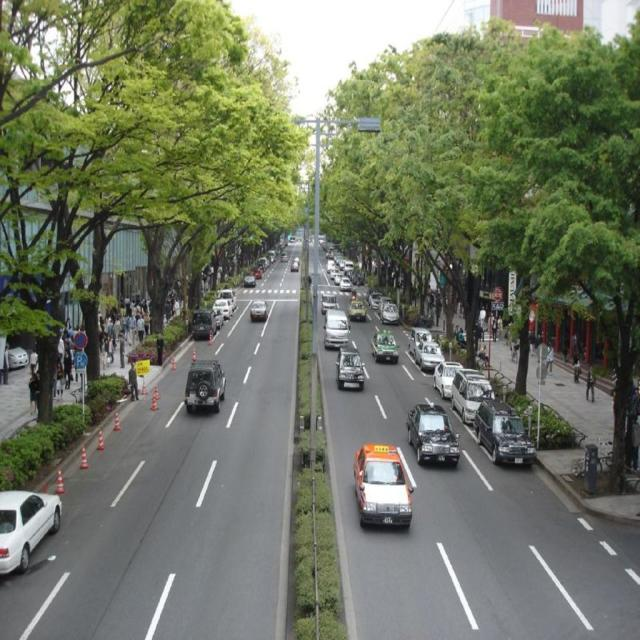car: (350, 448, 414, 534), (481, 400, 532, 466), (410, 411, 461, 466), (187, 366, 226, 411), (340, 352, 365, 393), (373, 332, 395, 363), (381, 304, 404, 320), (252, 299, 266, 322)
